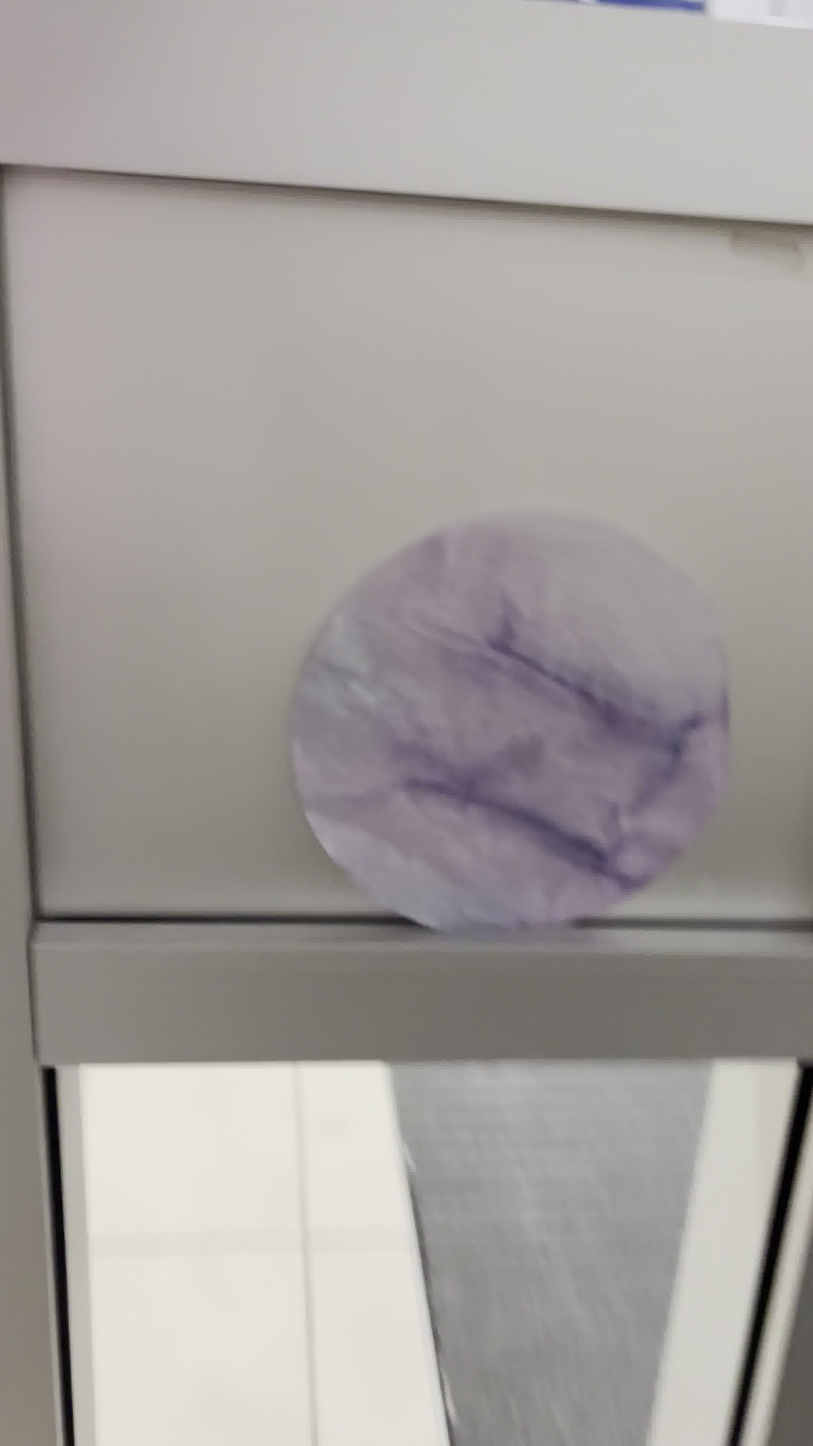Target: (280, 490, 747, 949)
